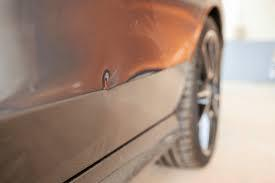dent: (98, 61, 132, 103)
